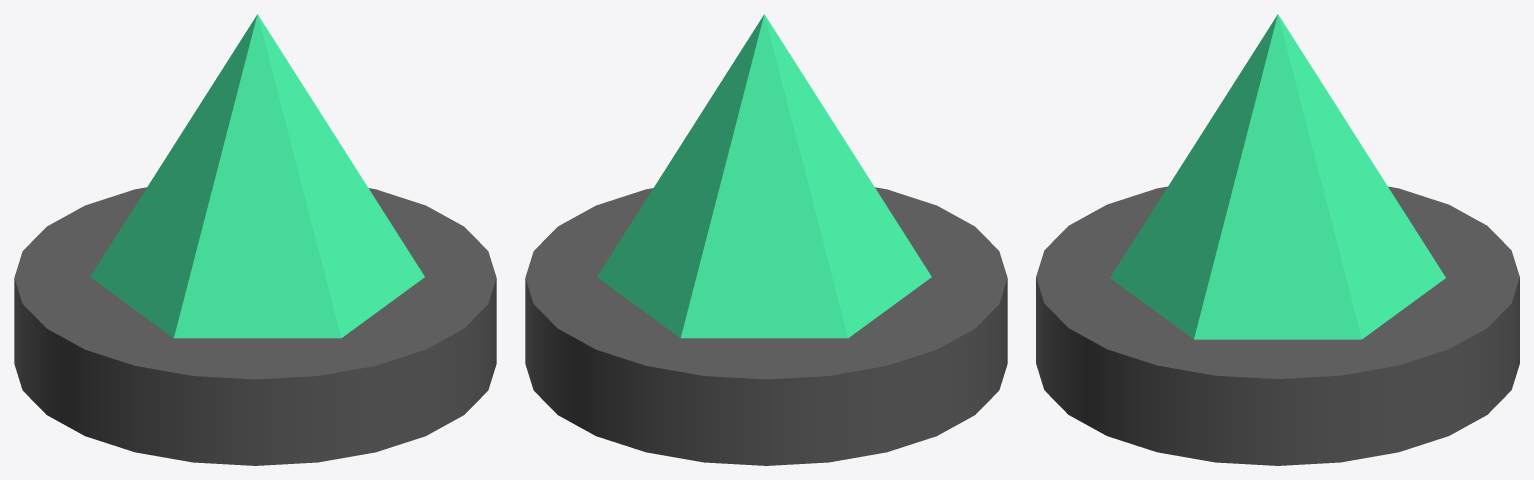
Rendered from gems_aquamarine_3.obj.
3 renders of one model, left to right at view 1: azimuth 30°, elevation 25°; view 2: azimuth 150°, elevation 25°; view 3: azimuth 270°, elevation 25°, orthographic.
Visible parts, largest first — view 1: mergedBlocks; view 2: mergedBlocks; view 3: mergedBlocks.
Part boxes in pixels (x1=…): mergedBlocks: x1=14, y1=14, x2=496, y2=465; mergedBlocks: x1=525, y1=14, x2=1007, y2=465; mergedBlocks: x1=1036, y1=14, x2=1519, y2=465.
Bounding box in the file's own units: 1 × 0.8 × 1.
